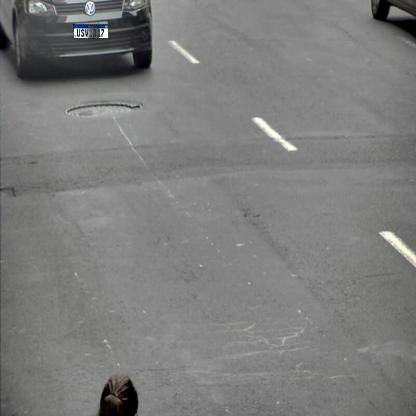PlacaM: (73, 24, 109, 39)
